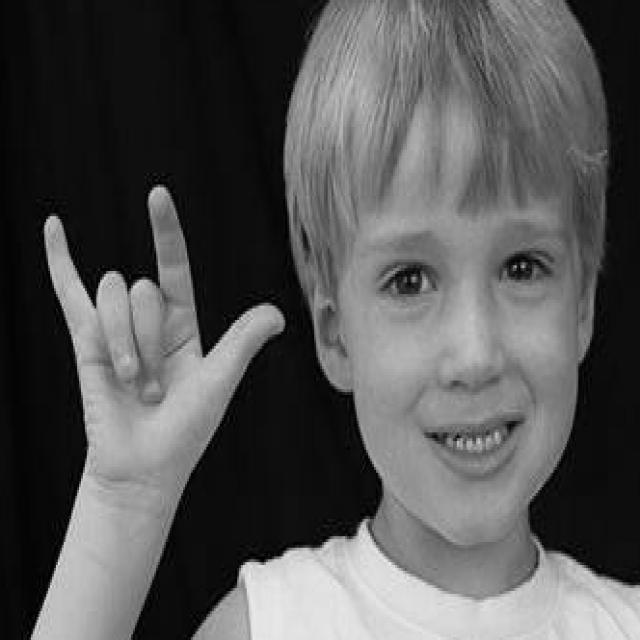i love you: (40, 181, 287, 504)
